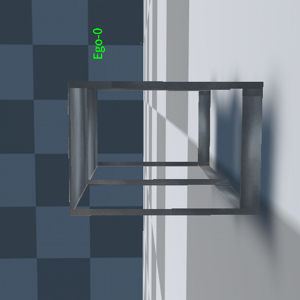Rack: (34, 79, 235, 223)
